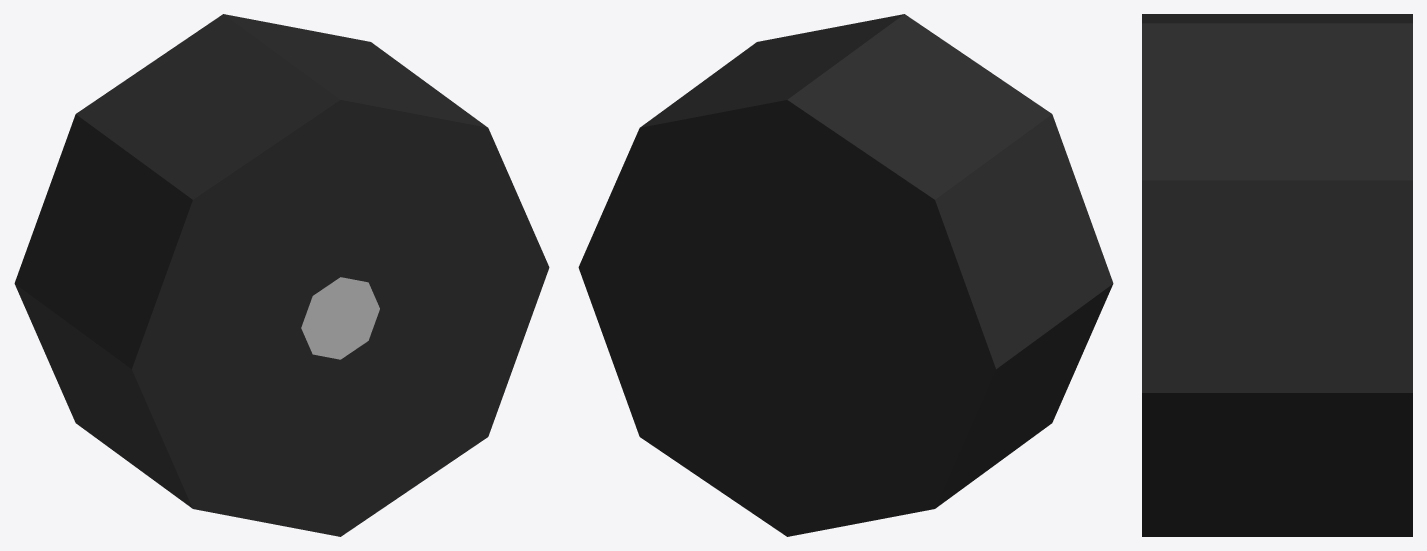
Rendered from wheel.gltf.
3 renders of one model, left to right at view 1: azimuth 30°, elevation 25°; view 2: azimuth 150°, elevation 25°; view 3: azimuth 270°, elevation 25°, orthographic. The views are drawn at different scales.
Visible parts, largest first — view 1: root; view 2: root; view 3: root.
Part boxes in pixels (box(x1,y1,x2,y2)): root: box(14, 14, 549, 536); root: box(578, 14, 1113, 536); root: box(1142, 14, 1412, 536).
Bounding box in the file's own units: 0.74 × 0.74 × 0.36.
Materials: 2 (1 with a texture image).
